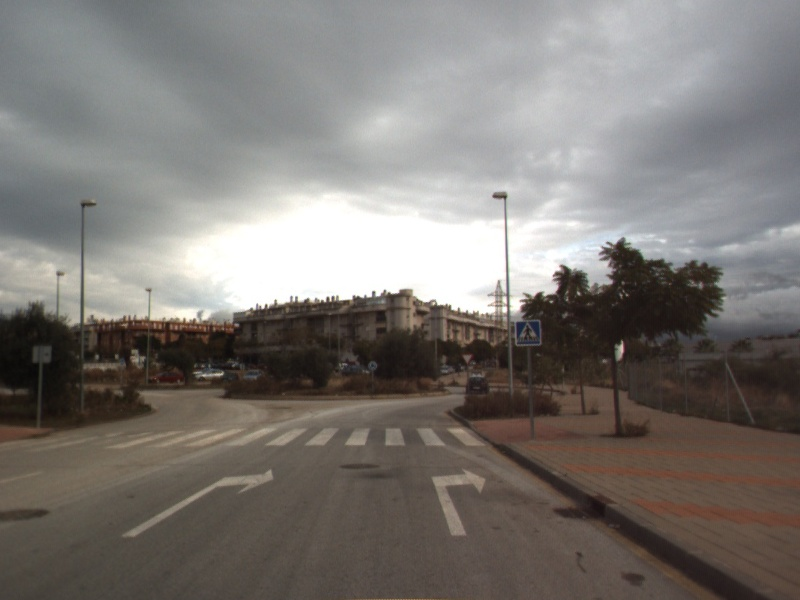RIGHT: (119, 466, 276, 539), (429, 466, 488, 538)
